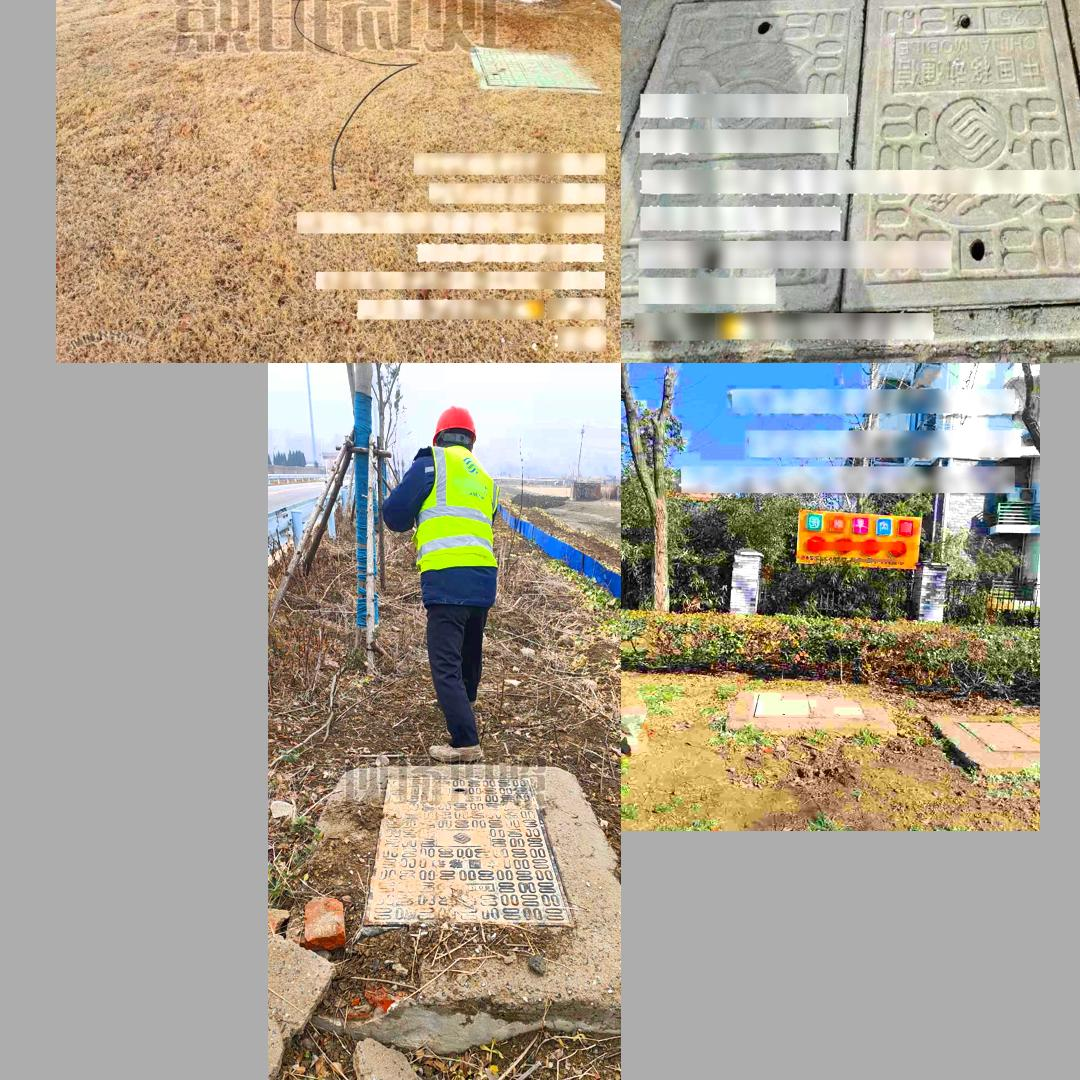good: (621, 0, 1080, 342), (364, 772, 577, 928), (470, 44, 604, 93), (747, 691, 869, 719), (955, 721, 1038, 750)
